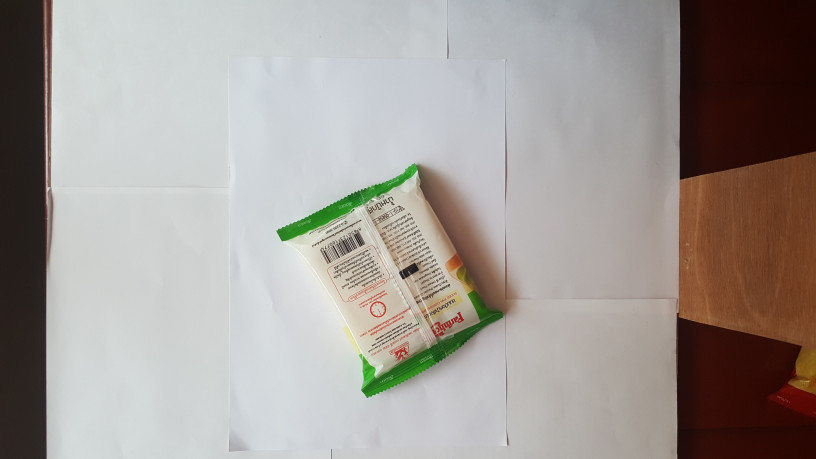farmhouse-bread-pandan: (263, 159, 510, 408)
